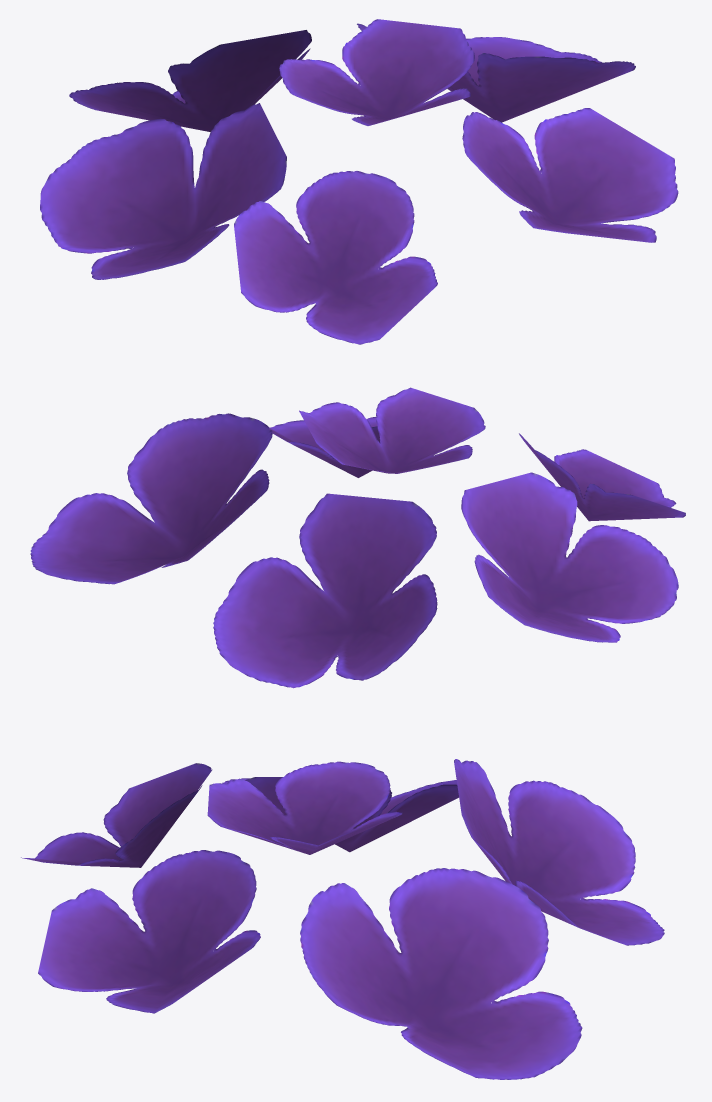
The model's file is Plant_7.gltf.
3 renders of one model, top to bottom at view 1: azimuth 30°, elevation 25°; view 2: azimuth 150°, elevation 25°; view 3: azimuth 270°, elevation 25°, orthographic. The views are drawn at different scales.
Visible parts, largest first — view 1: Plant_7; view 2: Plant_7; view 3: Plant_7.
Boxes of the visible parts, box(x1,y1,x2,y2) form: Plant_7: box(40, 19, 678, 344); Plant_7: box(30, 387, 685, 688); Plant_7: box(21, 759, 664, 1079).
Bounding box in the file's own units: 1.05 × 0.2483 × 0.9496.
Materials: 1 (1 with a texture image).
